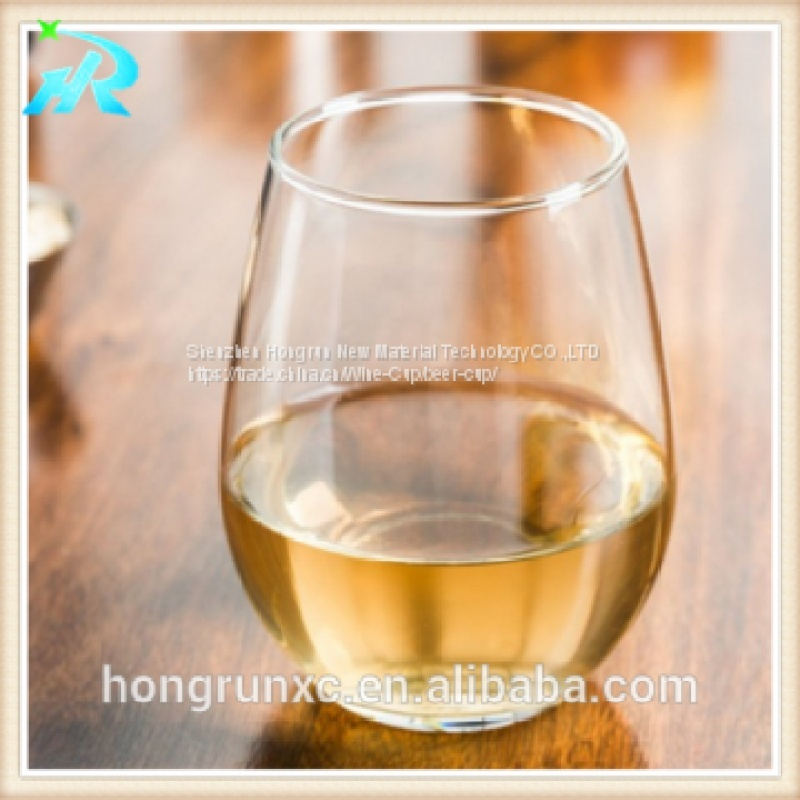whiskey: (221, 89, 680, 741)
